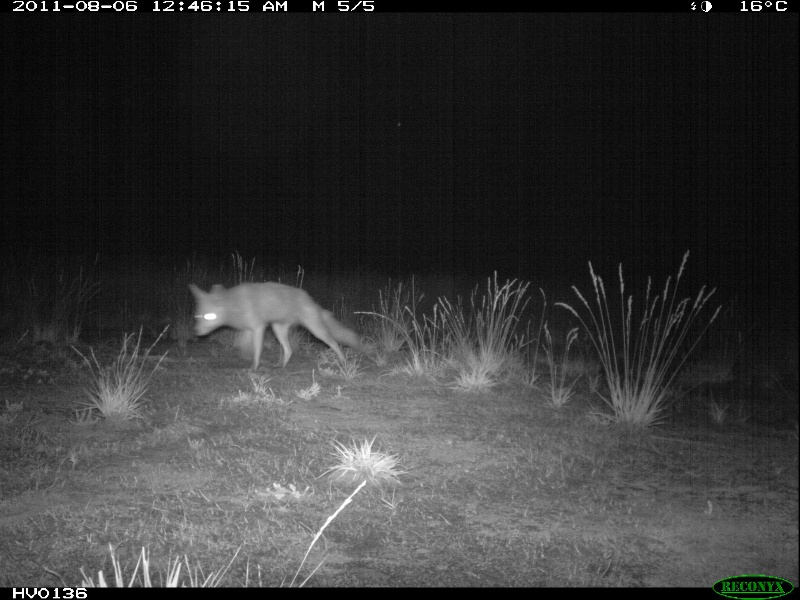fox: (186, 280, 363, 371)
